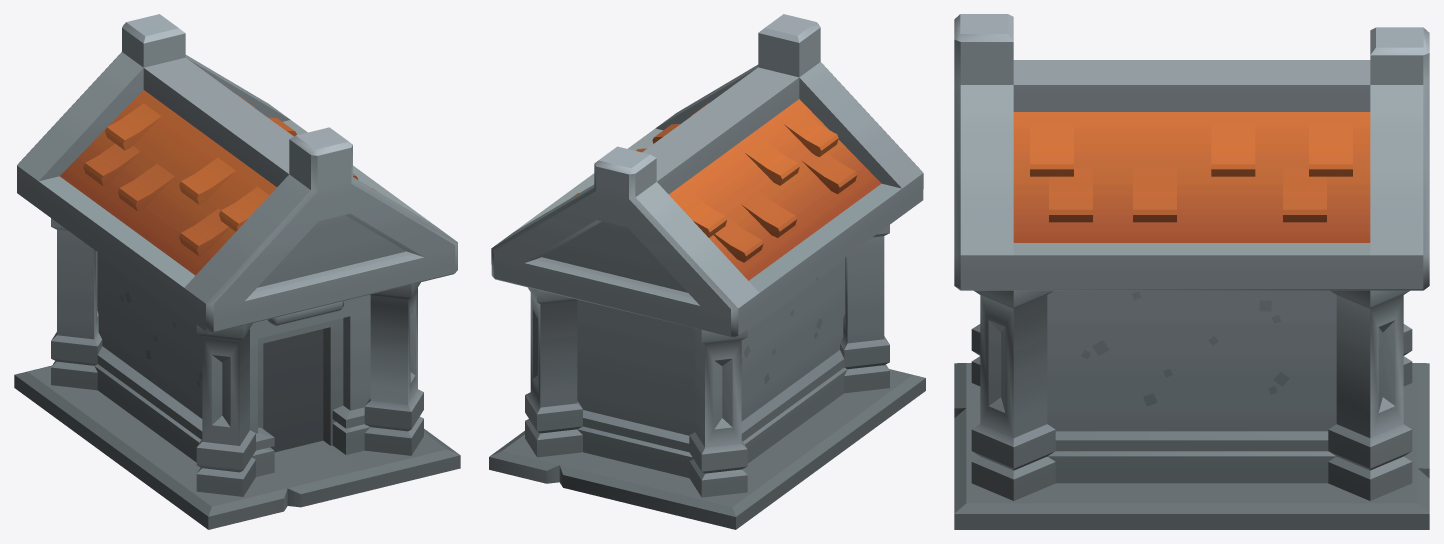
The model's file is crypt.glb.
3 views of the same model, side by side, from view 1: azimuth 30°, elevation 25°; view 2: azimuth 150°, elevation 25°; view 3: azimuth 270°, elevation 25° (orthographic). The views are drawn at different scales.
Visible parts, largest first — view 1: crypt; view 2: crypt; view 3: crypt.
Boxes of the visible parts, bbox=[...] form: crypt: bbox=[14, 14, 460, 529]; crypt: bbox=[489, 14, 925, 529]; crypt: bbox=[954, 14, 1429, 529].
Size of the model in its own units: 6 by 8 by 8.
Materials: 1 (1 with a texture image).
